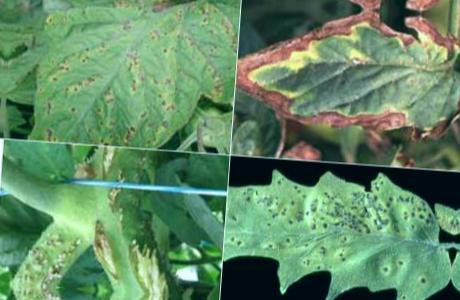Tomato leaf bacterial spot: (235, 7, 460, 160), (221, 165, 454, 300), (27, 0, 230, 148)
